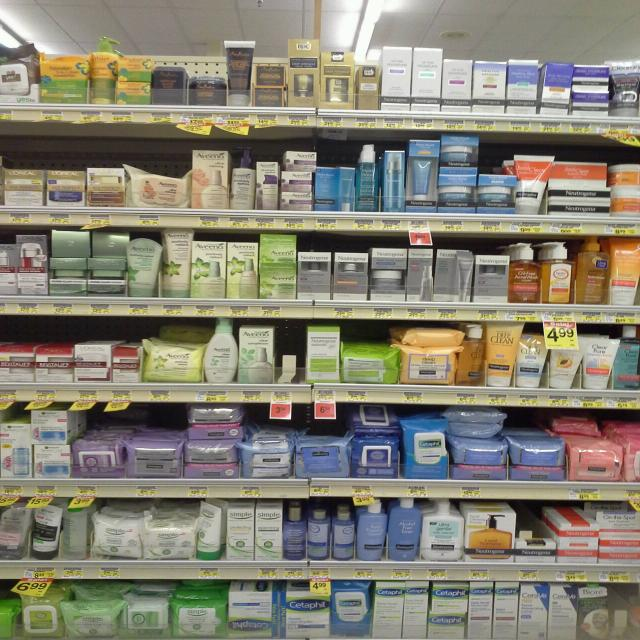unorganised: (448, 408, 503, 440), (459, 327, 487, 384), (352, 404, 397, 438), (197, 505, 222, 561)
